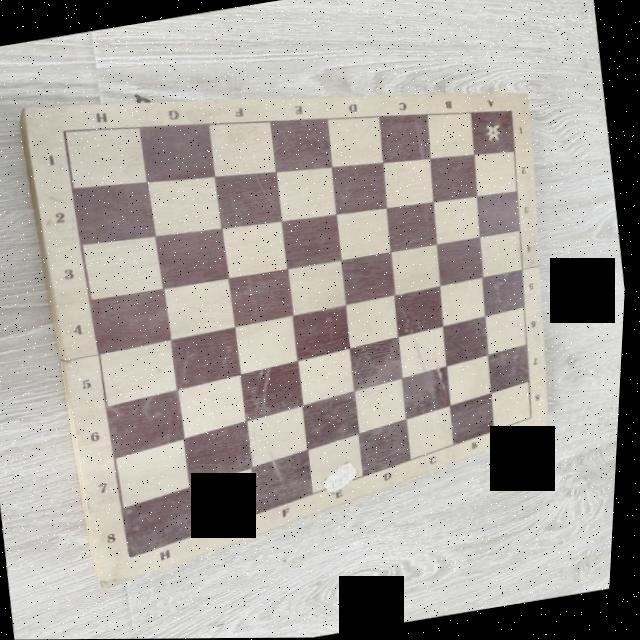chess-table-corners: (124, 548, 147, 567), (524, 409, 546, 427), (56, 125, 76, 138), (506, 108, 520, 116)
